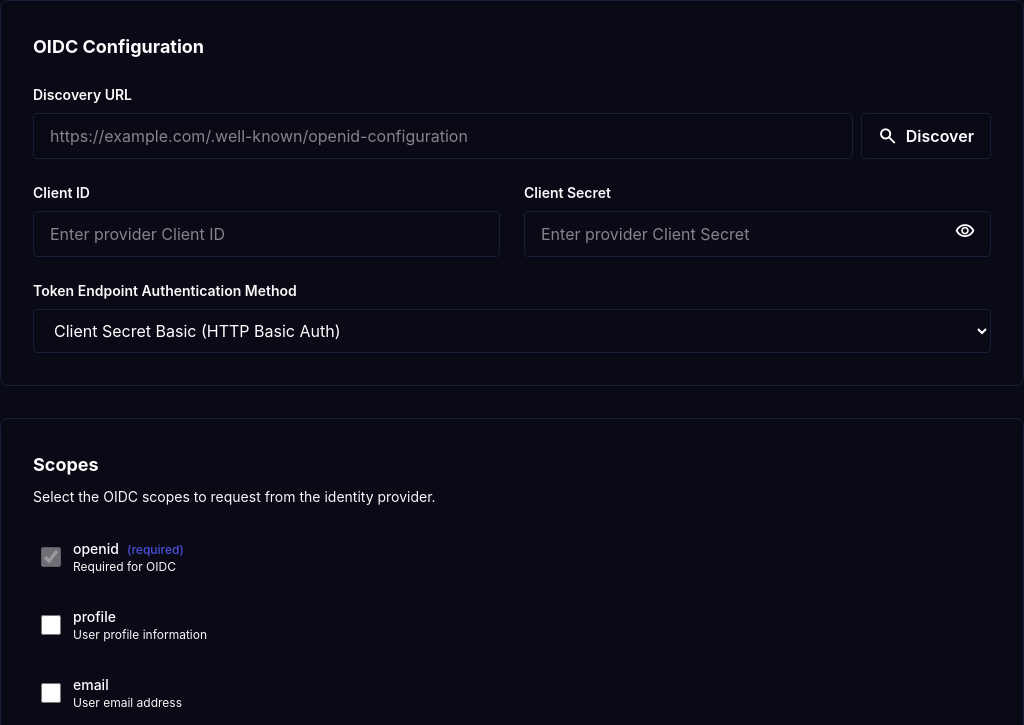
OidcConfigForm › Form Validation › validates URL format for discovery URL
Type "not-a-valid-url" into the field labelled "Discovery URL".
click(443, 136); type("not-a-valid-url")  # box [33,113,853,159]
(page scrolled)
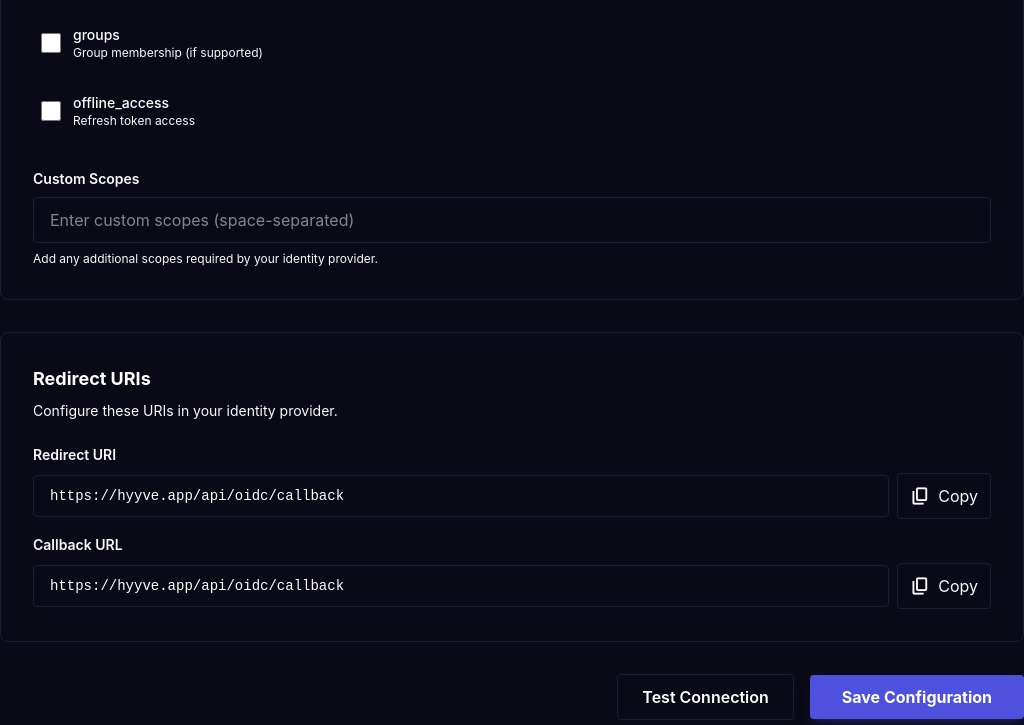
Click the button "Save Configuration".
click(917, 697)  # box [810,675,1023,719]
(page scrolled)
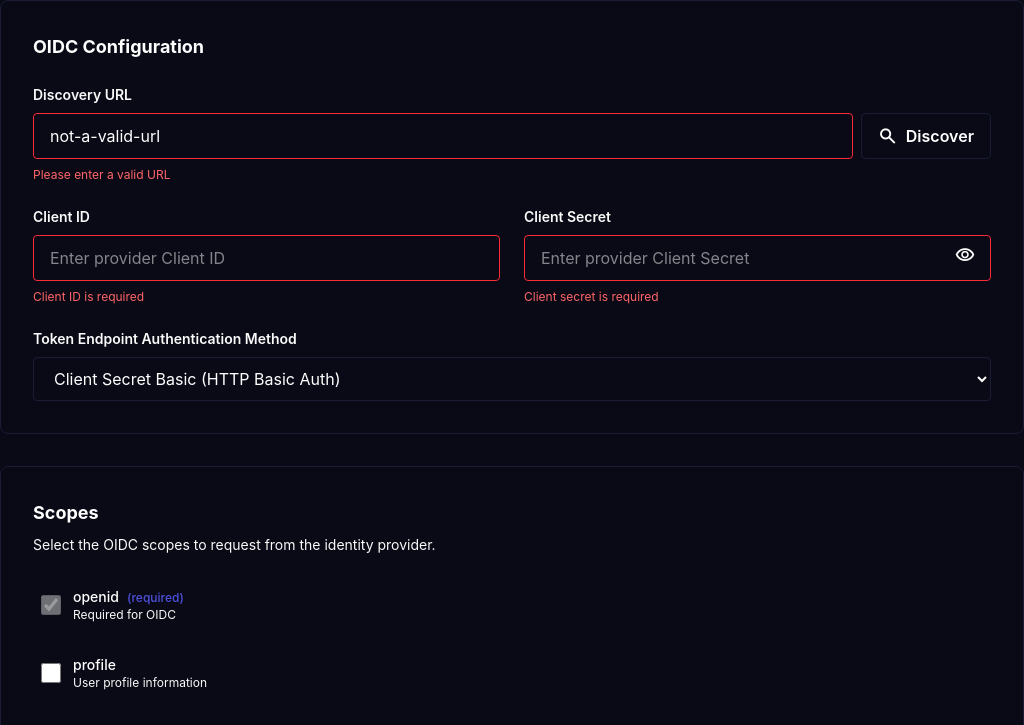
Now the text "Please enter a valid URL" is shown, box [33,167,170,182]
